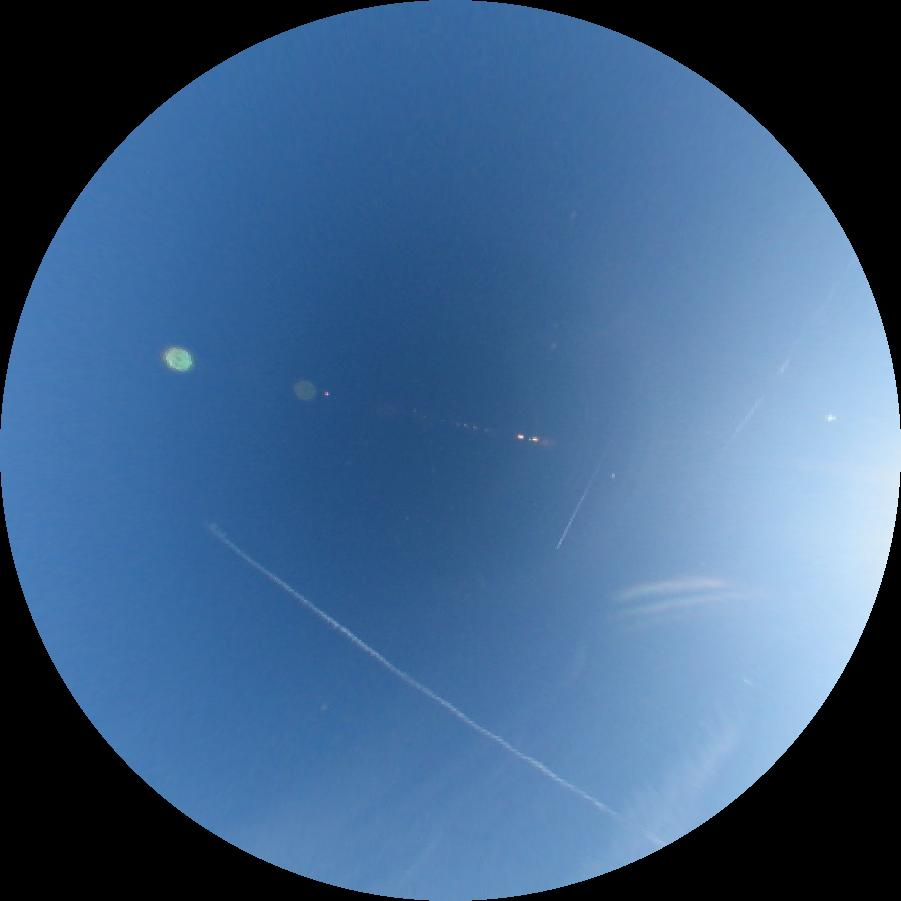contrail maybe: (741, 677, 752, 684)
contrail old: (195, 519, 668, 847), (723, 257, 855, 460)
contrail young: (554, 462, 601, 551)
parasite: (605, 577, 741, 607), (616, 594, 724, 618)
